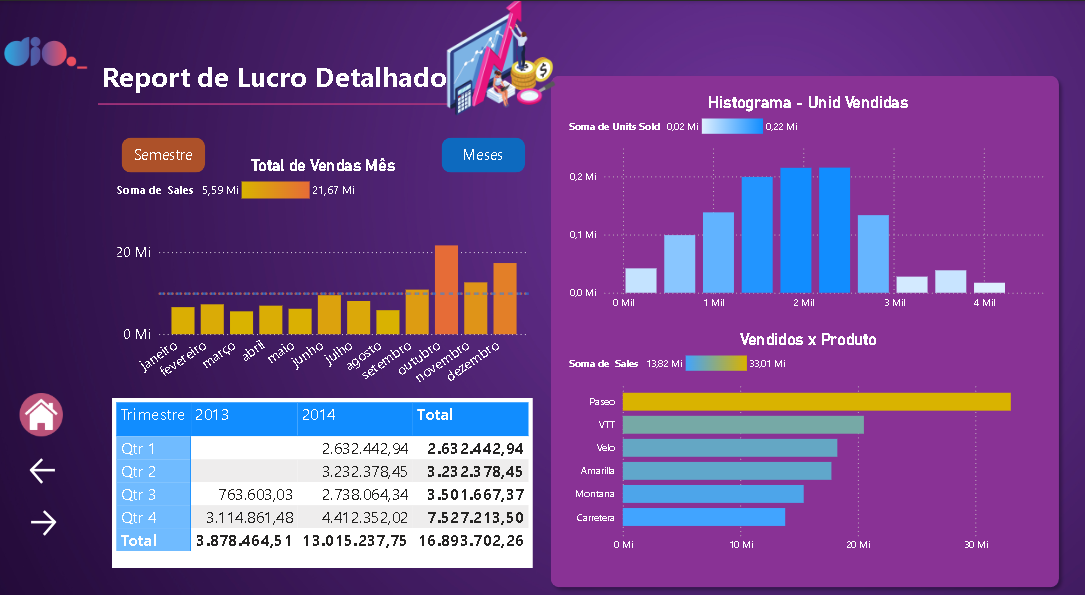

This screenshot's page, from the dashboard's own definition file:
{"tool":"powerbi","page":{"name":"Detalhes","canvas":[1280,720],"ordinal":2},"visuals":[{"type":"image","box":[0,0,1280,720.2],"z":0},{"type":"image","box":[6,2,98,124],"z":1000},{"type":"actionButton","title":"Botão - Map","box":[134.3,154.3,118.6,51.4],"z":2000},{"type":"textbox","box":[116,64,468,62],"z":3000},{"type":"shape","box":[640,82,616,620],"z":4000},{"type":"shape","box":[116,112,444,26],"z":5000},{"type":"clusteredColumnChart","title":"Histograma - Unid Vendidas","fields":{"Y":["Sum(financials.Units Sold)"],"Category":["financials.Buckets"]},"box":[666,112,572,264],"z":6000},{"type":"clusteredBarChart","title":"Vendidos x Produto","fields":{"Y":["Sum(financials. Sales)"],"Category":["financials.Product"]},"box":[666,390,572,270],"z":7000},{"type":"clusteredColumnChart","title":"Total de Vendas Mês","fields":{"Category":["financials.Date.Variation.Hierarquia de datas.Mês"],"Y":["Sum(financials. Sales)"]},"box":[134,186,494,286],"z":9000},{"type":"actionButton","title":"Botão - Tre","box":[510,154.3,118.6,51.4],"z":10000},{"type":"pivotTable","fields":{"Rows":["financials.Date.Variation.Hierarquia de datas.Trimestre"],"Columns":["financials.Date.Variation.Hierarquia de datas.Ano"],"Values":["Sum(financials.Profit)"]},"box":[132.5,470,495,200],"z":11000},{"type":"image","box":[510,0,160,138],"z":12000},{"type":"actionButton","box":[32,598,48,40],"z":13000},{"type":"actionButton","box":[31.7,536.7,46.7,40],"z":14000},{"type":"image","box":[21.4,464.3,57.1,51.4],"z":15000},{"type":"actionButton","box":[21.4,457.1,57.1,61.4],"z":16000}]}

Visuals, with their boxes in screenshot pixels (x1, y1, x2, y2), scaled from the page's 1280x720 canvas onto the 1085x595 screenshot:
image: [x1=0, y1=0, x2=1084, y2=594]
image: [x1=5, y1=2, x2=88, y2=104]
"Botão - Map" actionButton: [x1=114, y1=128, x2=214, y2=170]
textbox: [x1=98, y1=53, x2=495, y2=104]
shape: [x1=542, y1=68, x2=1065, y2=580]
shape: [x1=98, y1=93, x2=475, y2=114]
"Histograma - Unid Vendidas" clusteredColumnChart: [x1=565, y1=93, x2=1049, y2=311]
"Vendidos x Produto" clusteredBarChart: [x1=565, y1=322, x2=1049, y2=545]
"Total de Vendas Mês" clusteredColumnChart: [x1=114, y1=154, x2=532, y2=390]
"Botão - Tre" actionButton: [x1=432, y1=128, x2=533, y2=170]
pivotTable - financials.Date.Variation.Hierarquia de datas.Trimestre x financials.Date.Variation.Hierarquia de datas.Ano: [x1=112, y1=388, x2=532, y2=554]
image: [x1=432, y1=0, x2=568, y2=114]
actionButton: [x1=27, y1=494, x2=68, y2=527]
actionButton: [x1=27, y1=444, x2=66, y2=477]
image: [x1=18, y1=384, x2=67, y2=426]
actionButton: [x1=18, y1=378, x2=67, y2=428]
